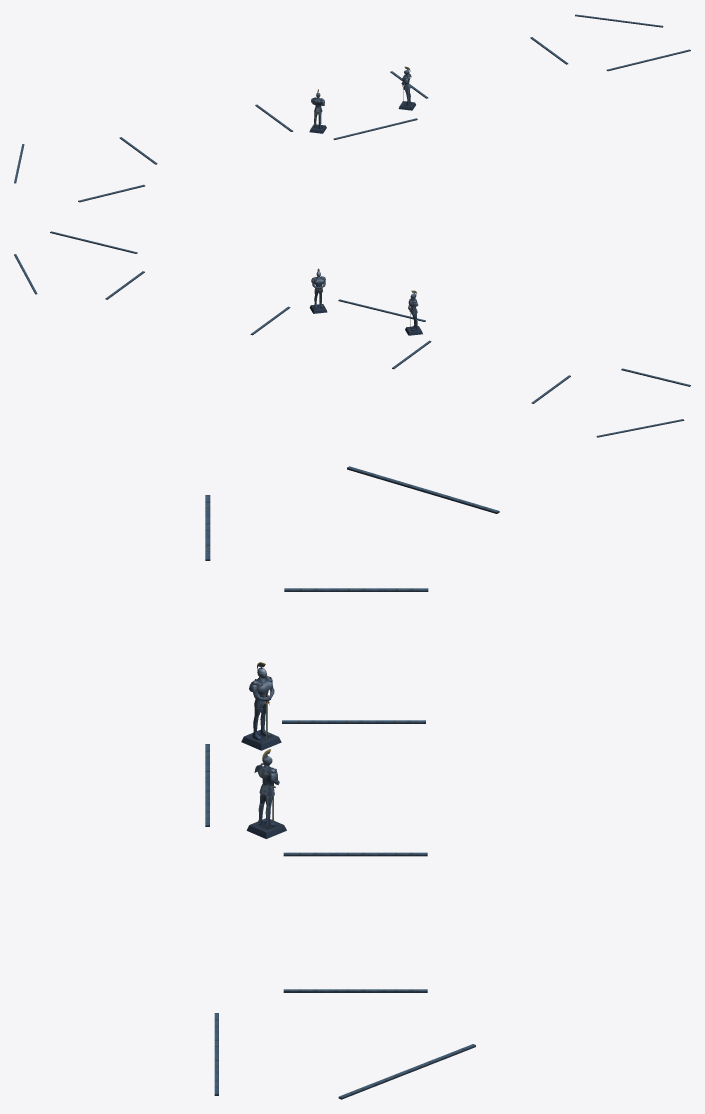
The model's file is xiaowujian_group7.fbx.
3 views of the same model, one above another, from view 1: azimuth 30°, elevation 25°; view 2: azimuth 150°, elevation 25°; view 3: azimuth 270°, elevation 25° (orthographic). The views are drawn at different scales.
Parts seen in each view (by area): view 1: xiaowujian_group7; view 2: xiaowujian_group7; view 3: xiaowujian_group7.
Part boxes in pixels (bbox=[...]): xiaowujian_group7: bbox=[14, 14, 690, 202]; xiaowujian_group7: bbox=[14, 231, 690, 437]; xiaowujian_group7: bbox=[205, 466, 499, 1099].
Bounding box in the file's own units: 11282 × 676 × 2218.
1 material, 1 textured.
